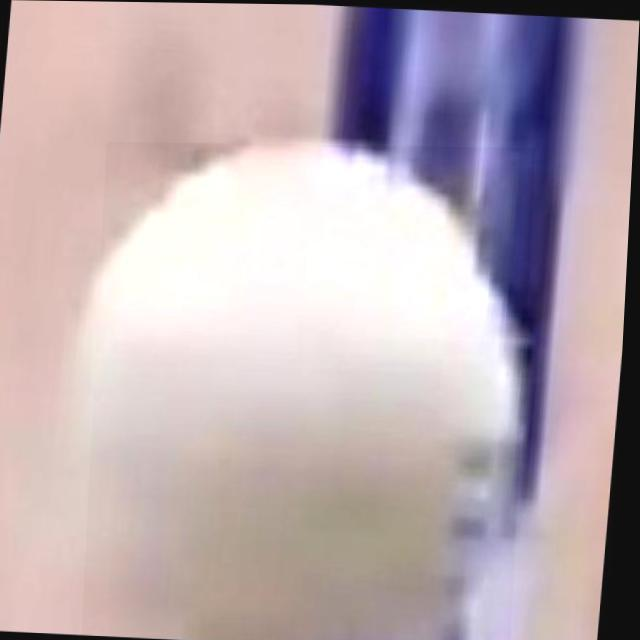-: (88, 141, 537, 640)
